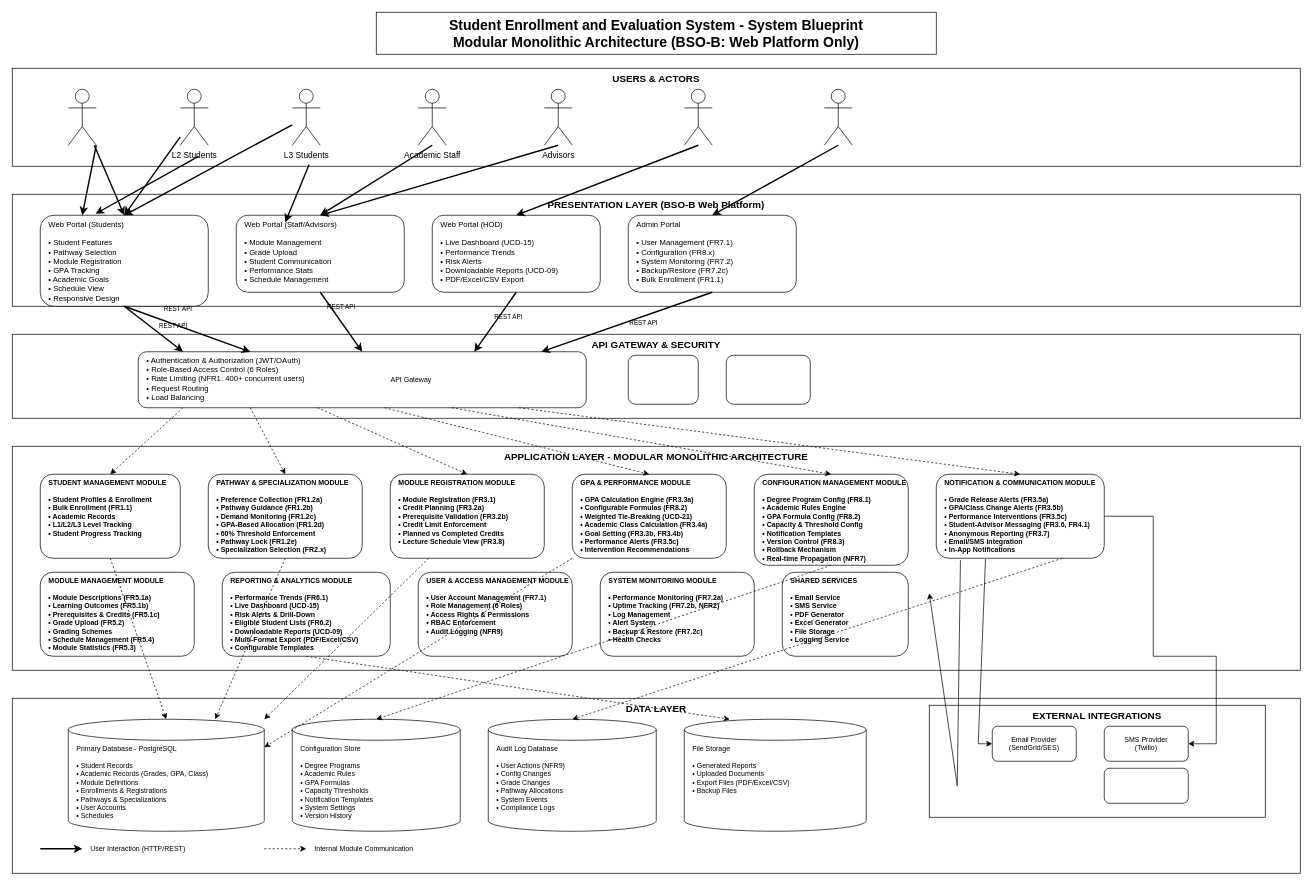
Image size: 1313x886. Some labels were removed from this diagram. Each missing label, with the centre of its shape:
"Backup Service (Cloud Backup)" goes at (1146,785).
"Cache Layer (Redis) • Session Data • Config Cache" goes at (768,379).
"Head of Department" goes at (698,117).
"L1 Students" goes at (82,117).
"Session Management" goes at (663,379).
"System Administrator" goes at (838,117).
